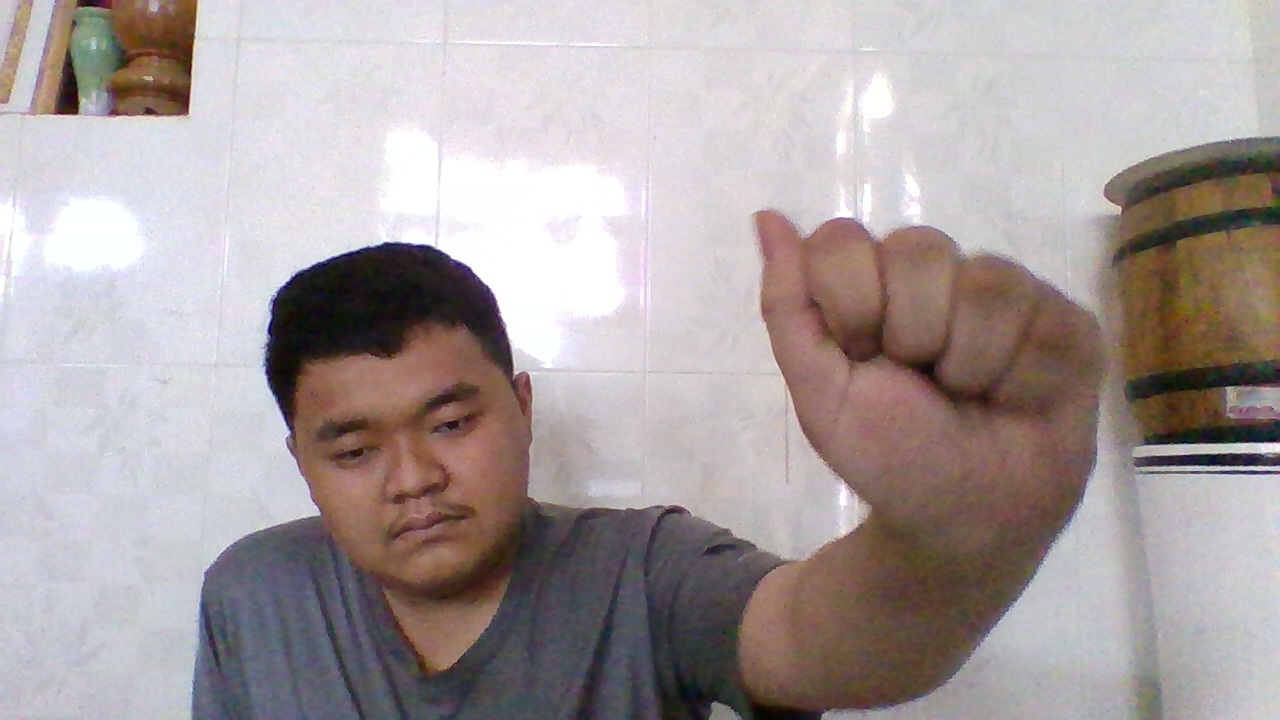A: (756, 216, 1079, 550)
